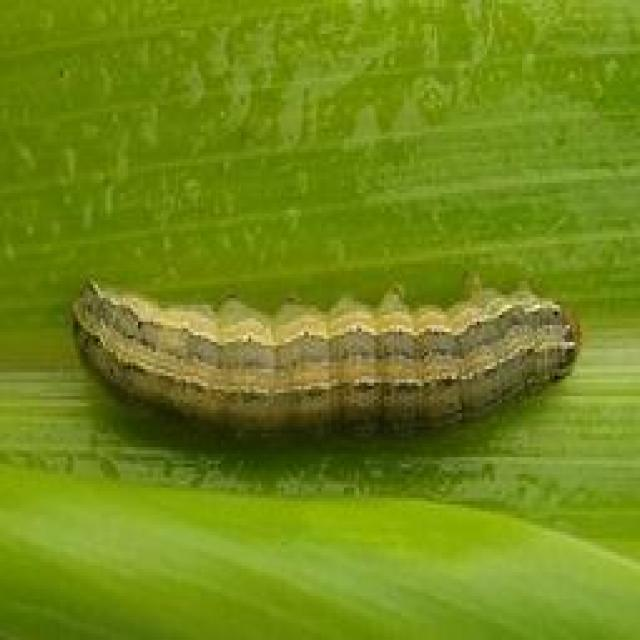BeetArmyWorm-Larva-: (61, 267, 589, 449)
